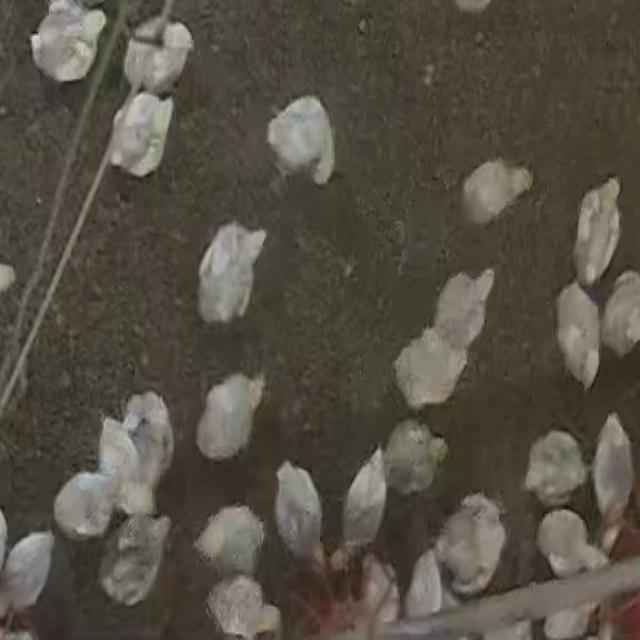chicken: (433, 492, 508, 596), (197, 223, 270, 326), (98, 512, 171, 608), (195, 373, 264, 463), (264, 97, 337, 181), (32, 0, 104, 85), (106, 89, 174, 179), (123, 17, 195, 97), (431, 269, 496, 357), (553, 280, 603, 392), (392, 332, 470, 403), (573, 178, 622, 290), (194, 503, 266, 579), (120, 391, 175, 487), (0, 529, 56, 623), (458, 157, 534, 226), (274, 458, 324, 562), (522, 430, 587, 509), (204, 572, 281, 638), (536, 510, 607, 579), (52, 470, 119, 543), (383, 419, 446, 496), (591, 413, 633, 528), (341, 450, 388, 550), (97, 414, 143, 511), (354, 549, 398, 631), (601, 270, 640, 359), (404, 546, 446, 626), (542, 596, 596, 640)
